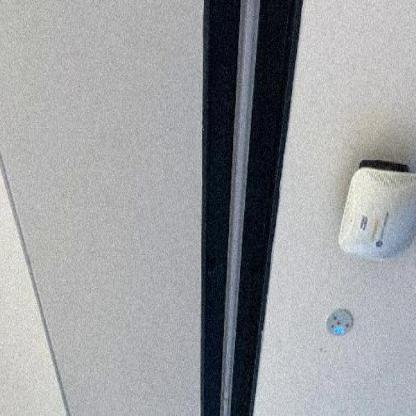light_off: (210, 0, 270, 415)
